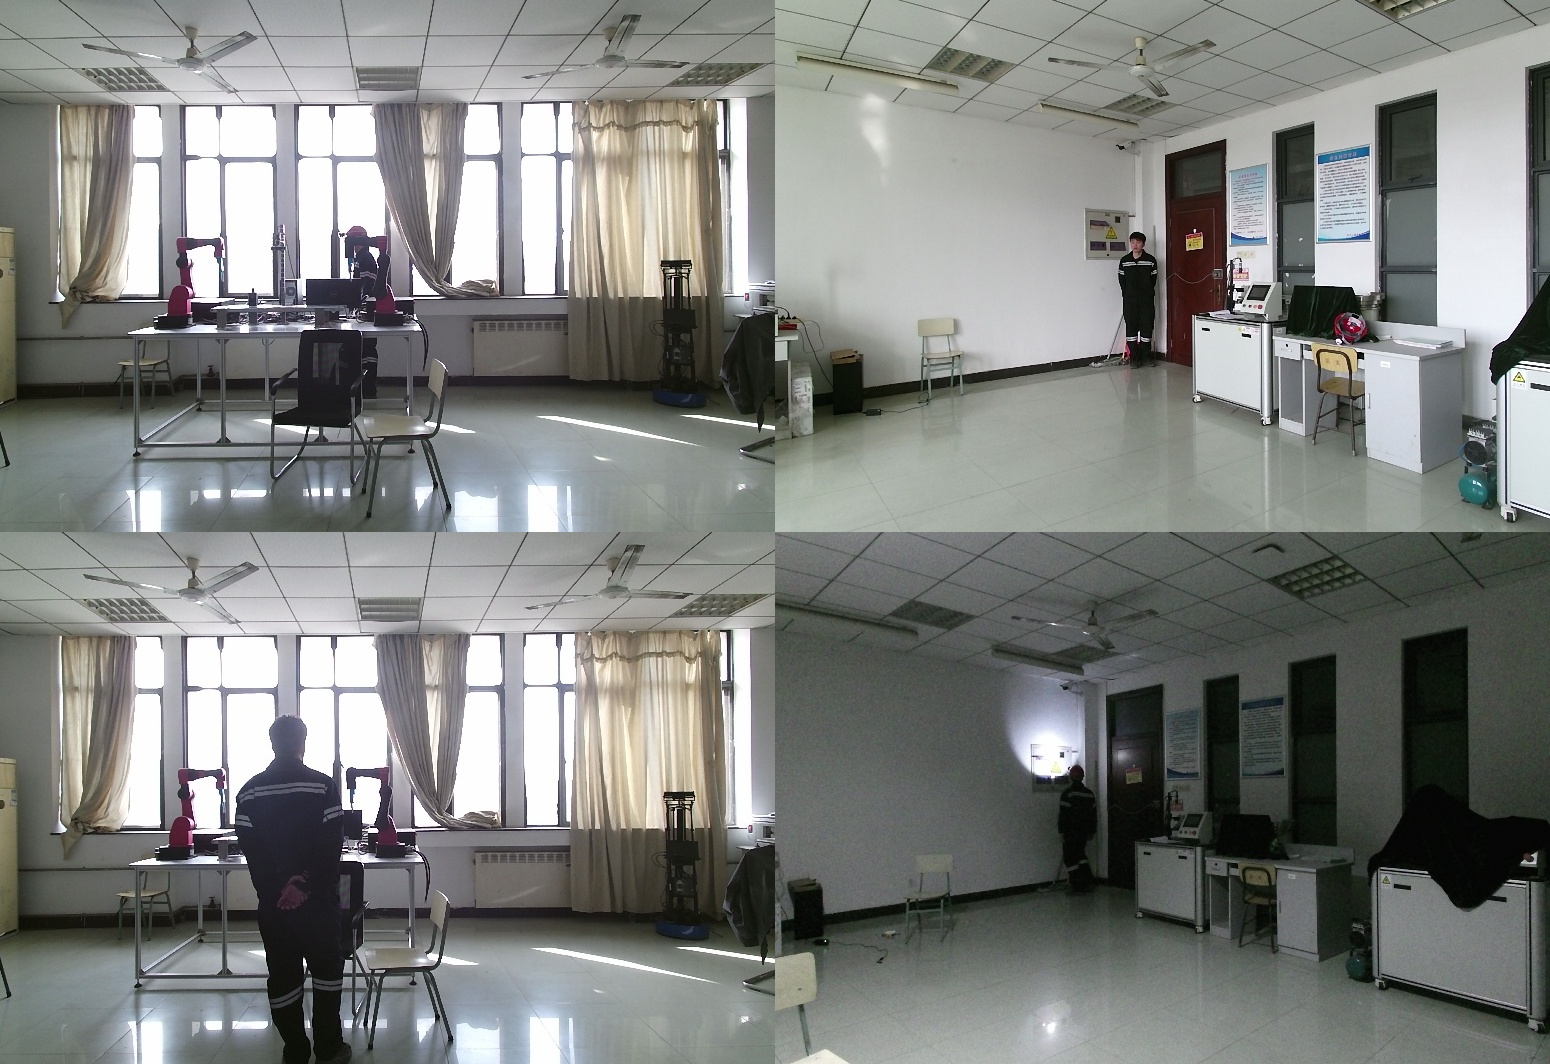person: (233, 717, 361, 1064), (335, 225, 379, 398), (1051, 765, 1099, 899), (1116, 232, 1161, 370)
